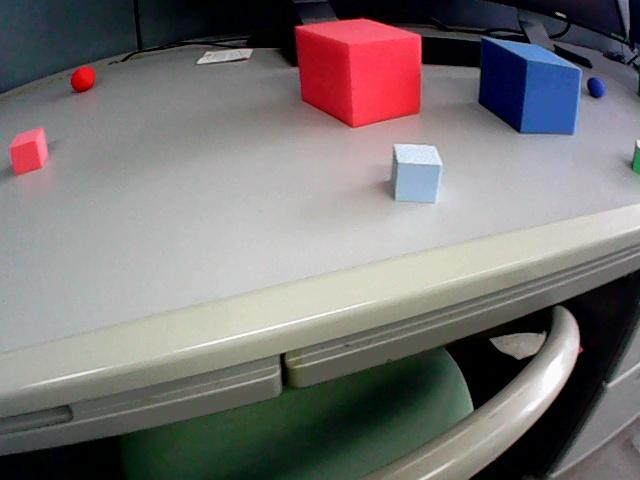blue_block: (479, 38, 581, 133), (392, 144, 441, 202)
red_block: (295, 19, 420, 126), (9, 128, 48, 175)
